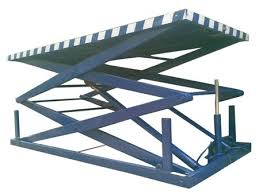Scissor Lift: (6, 9, 252, 189)
